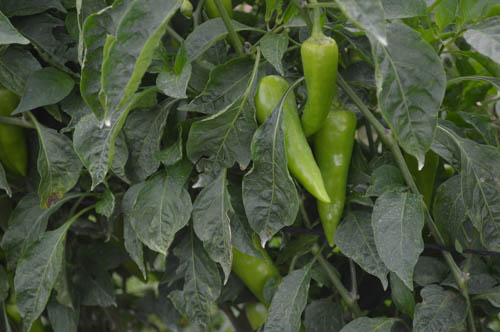ChiliPepper: (255, 76, 327, 202), (312, 108, 358, 246), (295, 39, 337, 139), (230, 235, 279, 295), (1, 91, 30, 176), (405, 144, 437, 214)
